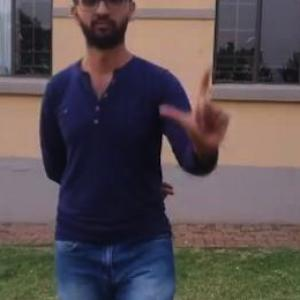land_hand: (158, 63, 232, 146)
